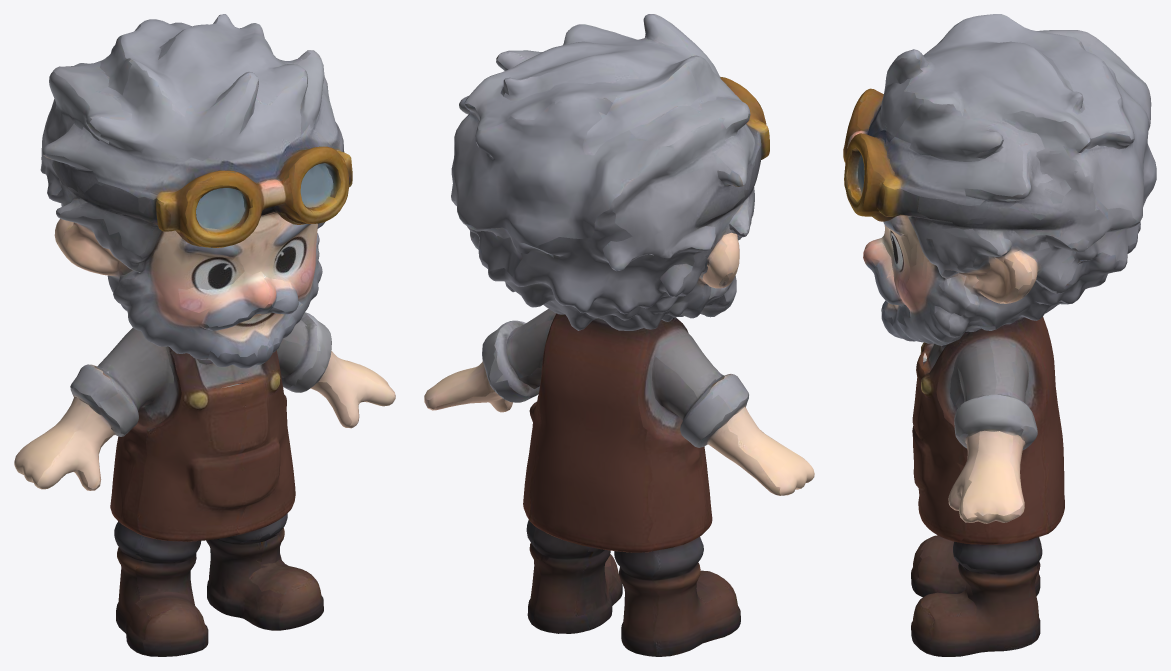
Rendered from ruess.glb.
3 renders of one model, left to right at view 1: azimuth 30°, elevation 25°; view 2: azimuth 150°, elevation 25°; view 3: azimuth 270°, elevation 25°, orthographic. The views are drawn at different scales.
Parts seen in each view (by area): view 1: ruess_s12; view 2: ruess_s12; view 3: ruess_s12.
Boxes of the visible parts, x1=… form: ruess_s12: x1=14, y1=14, x2=395, y2=656; ruess_s12: x1=424, y1=14, x2=814, y2=656; ruess_s12: x1=843, y1=14, x2=1156, y2=656.
Bounding box in the file's own units: 0.6671 × 1 × 0.5001.
1 material, 1 textured.
